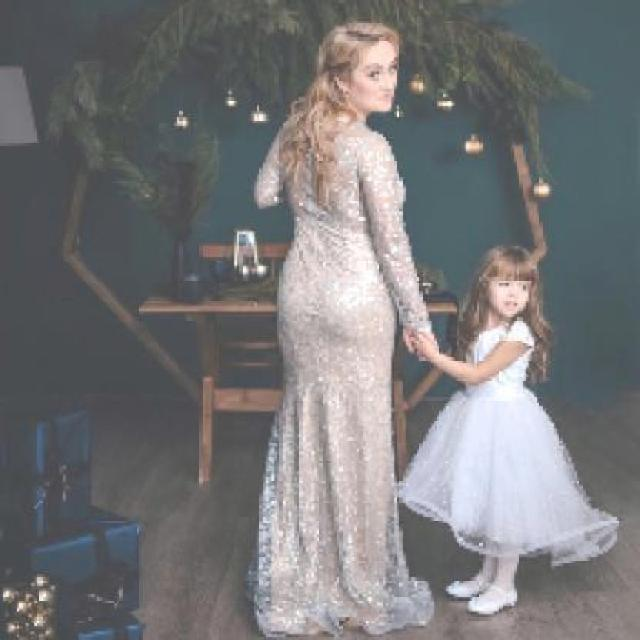child: (400, 241, 623, 616)
